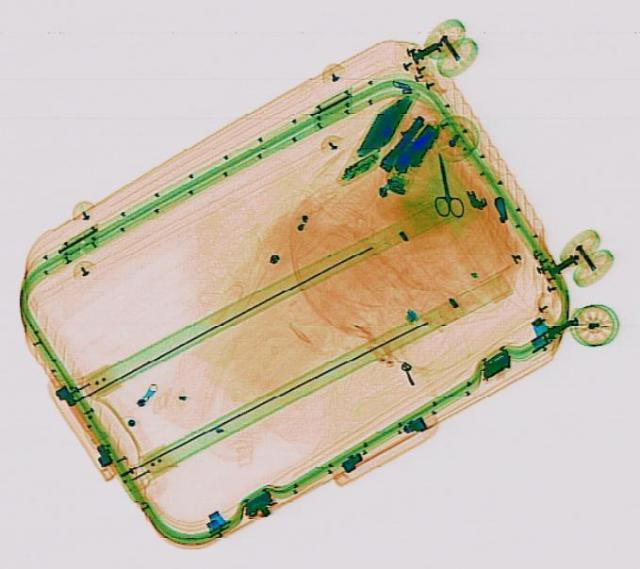Scissors: (422, 147, 463, 217)
